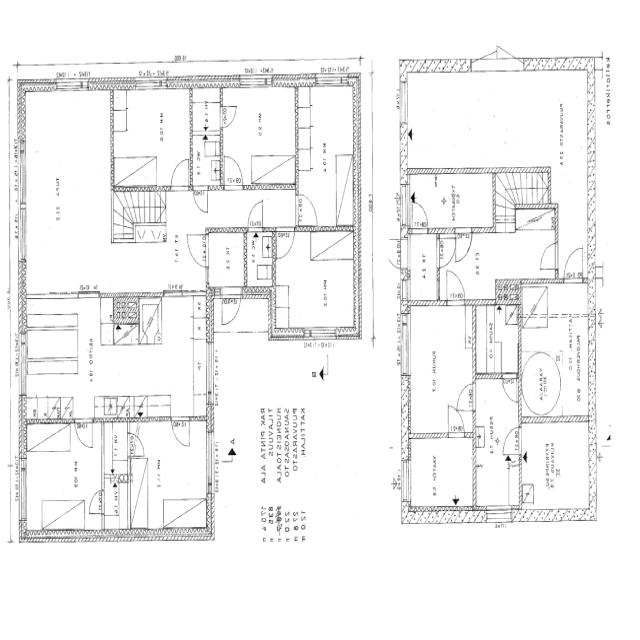door: (471, 14, 498, 70), (498, 14, 524, 70), (221, 286, 242, 332), (382, 239, 410, 268), (186, 235, 209, 268), (564, 246, 583, 284), (224, 156, 242, 190), (447, 270, 464, 305), (295, 196, 315, 225), (455, 228, 472, 262), (172, 418, 190, 450), (171, 158, 188, 191), (538, 242, 558, 270), (437, 239, 457, 267), (448, 406, 465, 438), (277, 228, 294, 260), (75, 418, 92, 450), (412, 202, 428, 233), (502, 428, 521, 454), (457, 385, 476, 411), (87, 490, 104, 514), (502, 373, 516, 402), (248, 204, 262, 232), (194, 186, 208, 214), (128, 433, 144, 456), (220, 106, 235, 127)
